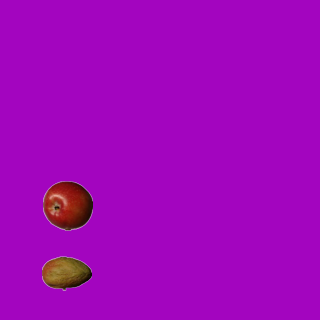Apple Braeburn: (42, 180, 92, 230)
Papaya: (41, 248, 91, 298)
